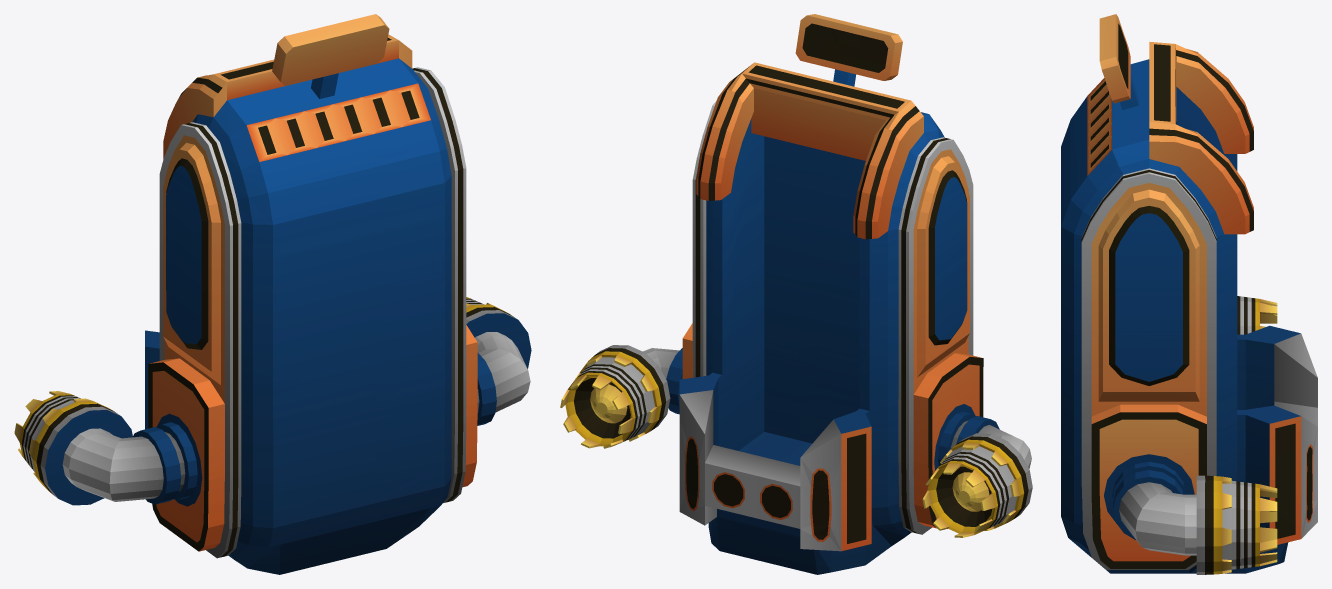
Rendered from MochilaPIVOTMID.fbx.
The picture shows the model from 3 angles, left to right: view 1: azimuth 30°, elevation 25°; view 2: azimuth 150°, elevation 25°; view 3: azimuth 270°, elevation 25°; orthographic projection. The views are drawn at different scales.
Parts seen in each view (by area): view 1: Object013; view 2: Object013; view 3: Object013.
Part boxes in pixels (box(x1,y1,x2,y2)): Object013: box(14, 14, 531, 574); Object013: box(560, 14, 1032, 574); Object013: box(1061, 14, 1317, 574).
Bounding box in the file's own units: 50.6 × 53.11 × 24.14.
